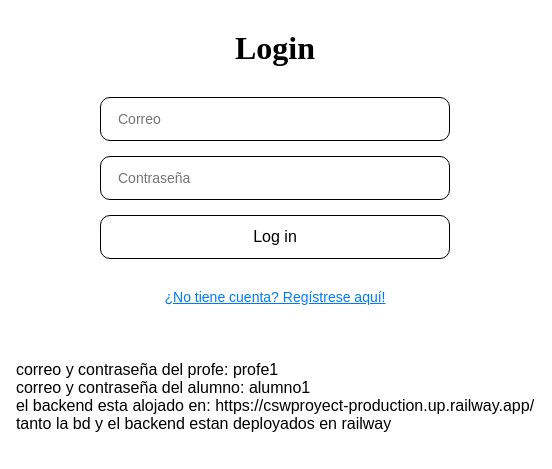
it: Login › muestra error cuando se envía el formulario sin completar campos
Click the button "Log in": (275, 236) top-left (100, 214), bottom-right (450, 258)
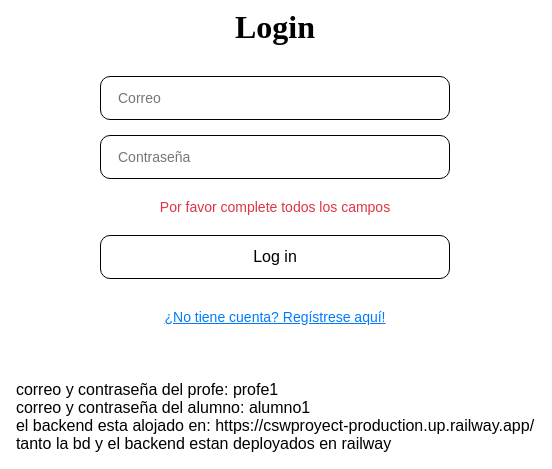
expect the text "Por favor complete todos los campos" is shown: met, box top-left (160, 199), bottom-right (390, 215)
